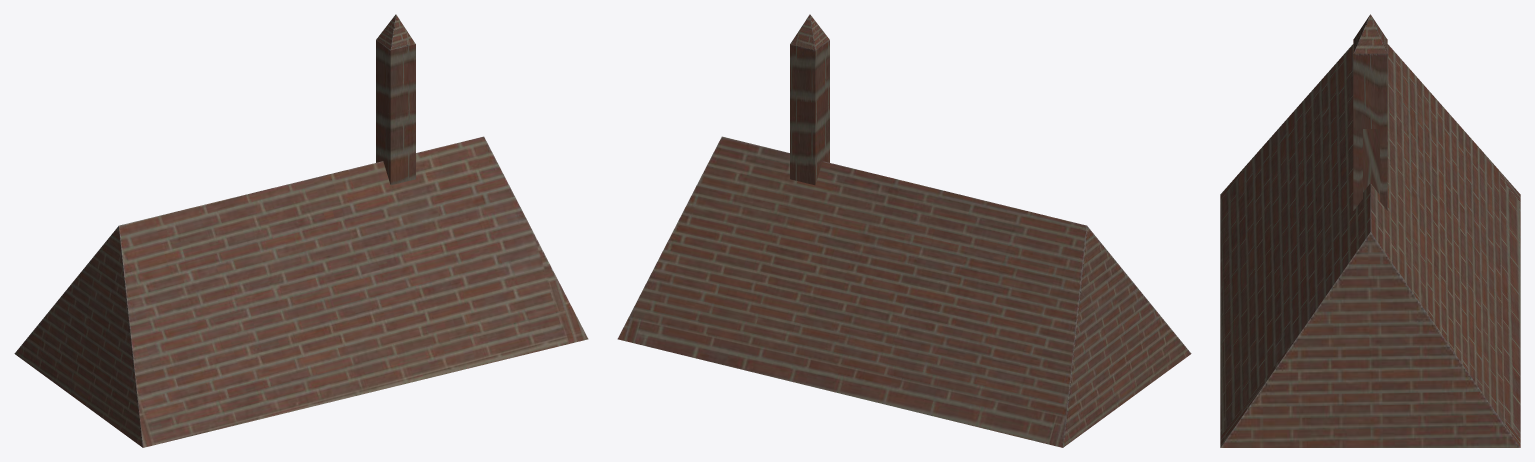
File: rooftop.fbx
3 views of the same model, side by side, from view 1: azimuth 30°, elevation 25°; view 2: azimuth 150°, elevation 25°; view 3: azimuth 270°, elevation 25° (orthographic). The views are drawn at different scales.
Parts seen in each view (by area): view 1: pCube2; view 2: pCube2; view 3: pCube2.
Boxes of the visible parts, left/top/right/bottom form: pCube2: left=14, top=14, right=588, bottom=447; pCube2: left=617, top=14, right=1191, bottom=447; pCube2: left=1220, top=14, right=1520, bottom=447.
Size of the model in its own units: 17.49 by 11.61 by 8.74.
Materials: 1 (1 with a texture image).
